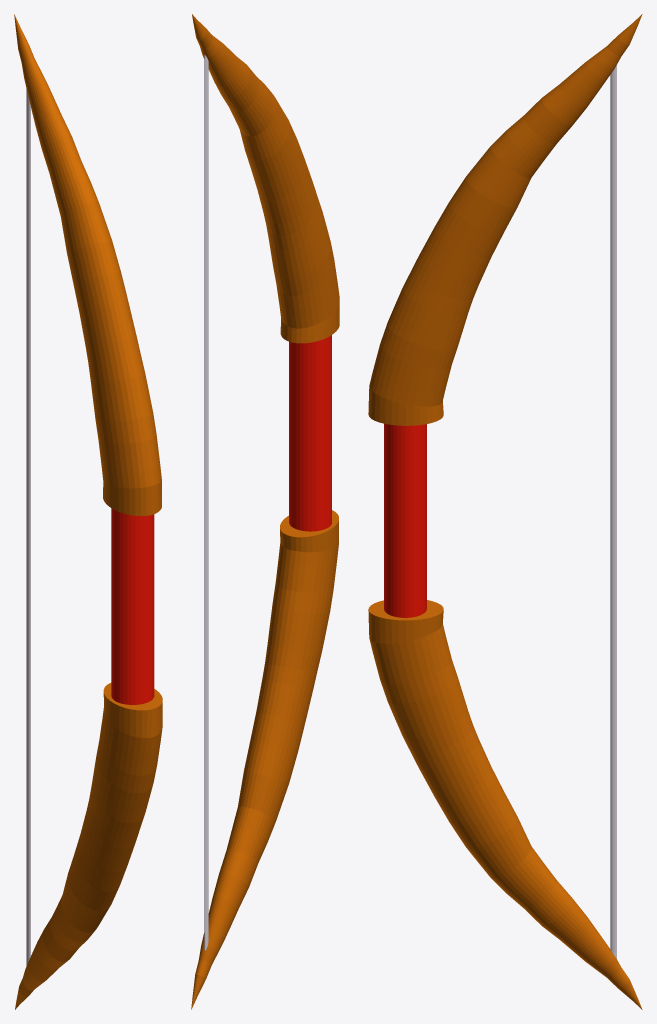
The model's file is bow.fbx.
The picture shows the model from 3 angles, left to right: view 1: azimuth 30°, elevation 25°; view 2: azimuth 150°, elevation 25°; view 3: azimuth 270°, elevation 25°; orthographic projection.
Parts seen in each view (by area): view 1: Bottom Half, Top Half, MIddle, String; view 2: Top Half, Bottom Half, MIddle, String; view 3: Bottom Half, Top Half, MIddle, String.
Boxes of the visible parts, x1,y1,x2,y2 form: Bottom Half: (14,14,161,516); Top Half: (15,683,162,1009); MIddle: (111,508,154,704); String: (26,89,30,966); Top Half: (191,510,338,1009); Bottom Half: (192,14,339,343); MIddle: (289,335,331,531); String: (204,55,208,950); Bottom Half: (368,14,642,425); Top Half: (368,600,642,1009); MIddle: (384,423,426,617); String: (610,65,616,958).
Bounding box in the file's own units: 224 × 4565 × 1139.
